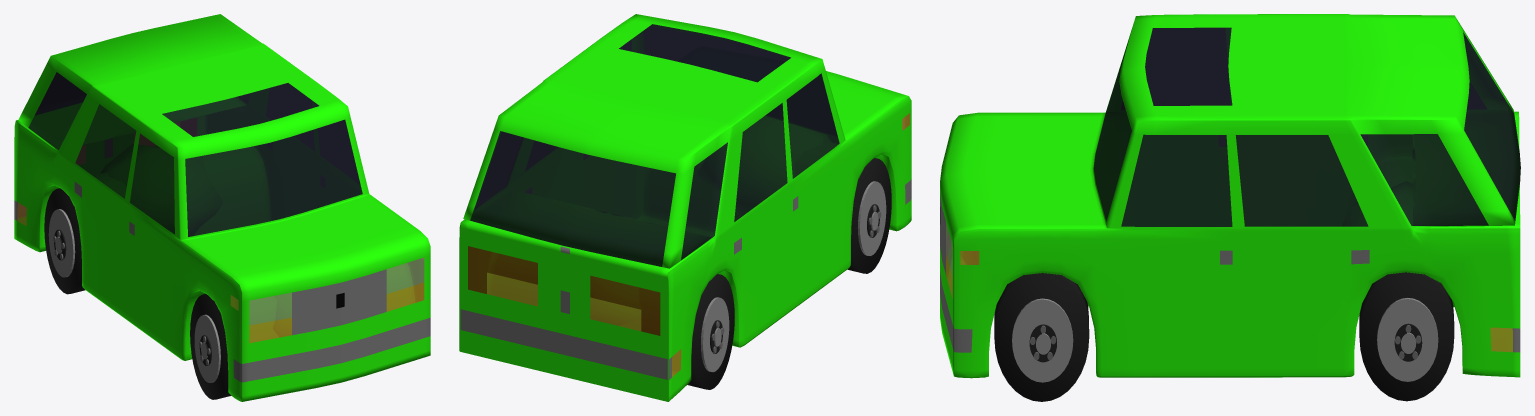
The model's file is car3wagonGreen.fbx.
The picture shows the model from 3 angles, left to right: view 1: azimuth 30°, elevation 25°; view 2: azimuth 150°, elevation 25°; view 3: azimuth 270°, elevation 25°; orthographic projection. The views are drawn at different scales.
Visible parts, largest first — view 1: Car2, LugNut.001, LugNut.002; view 2: Car2, LugNut.002, LugNut.001; view 3: Car2, LugNut.004, LugNut.003.
Boxes of the visible parts, x1,y1,x2,y2 form: Car2: (14,14,430,401); LugNut.001: (190,294,231,399); LugNut.002: (44,188,85,294); Car2: (459,14,911,401); LugNut.002: (687,274,734,389); LugNut.001: (847,158,891,273); Car2: (940,14,1520,378); LugNut.004: (994,273,1089,401); LugNut.003: (1359,272,1454,401).
Bounding box in the file's own units: 187 × 204 × 385.
